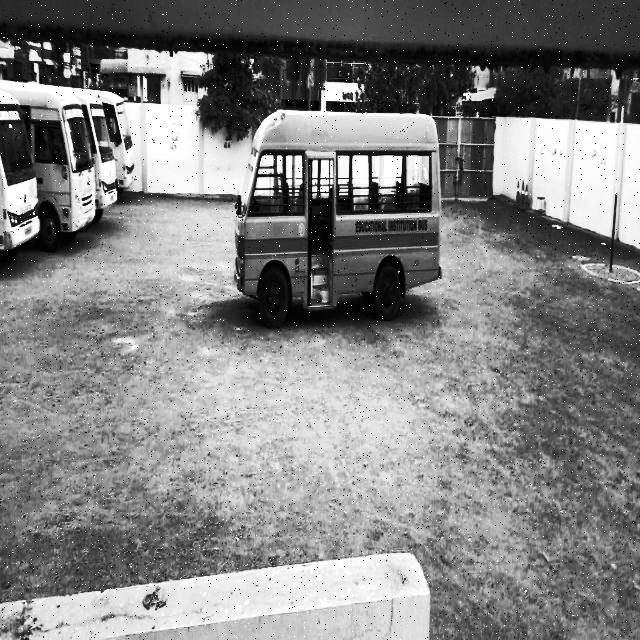Bus: (229, 97, 456, 336), (44, 91, 97, 239), (1, 108, 38, 260), (90, 98, 119, 221), (110, 92, 138, 201)
